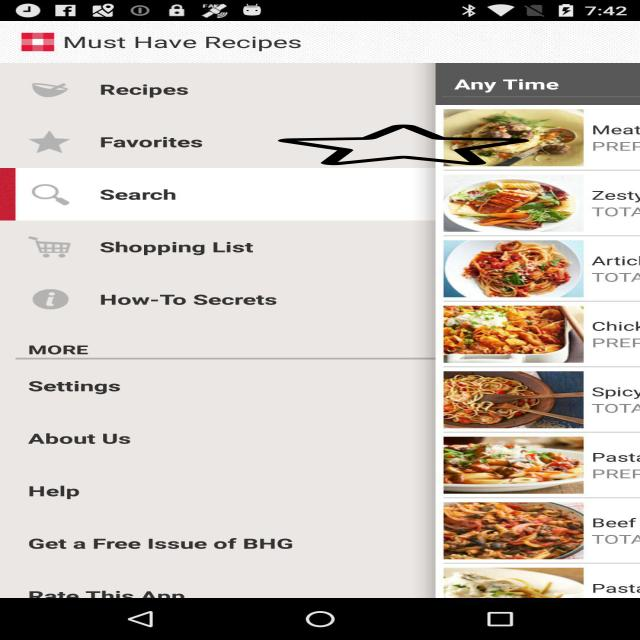forced continuity: (278, 124, 529, 166)
